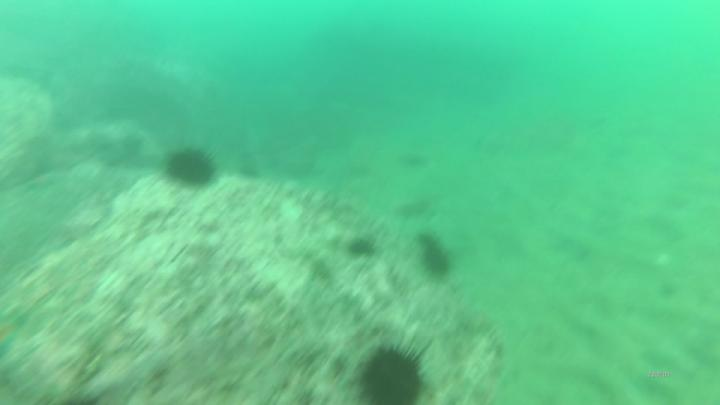echinus: (356, 347, 427, 405), (164, 145, 217, 186), (418, 231, 452, 278), (350, 237, 375, 260)
